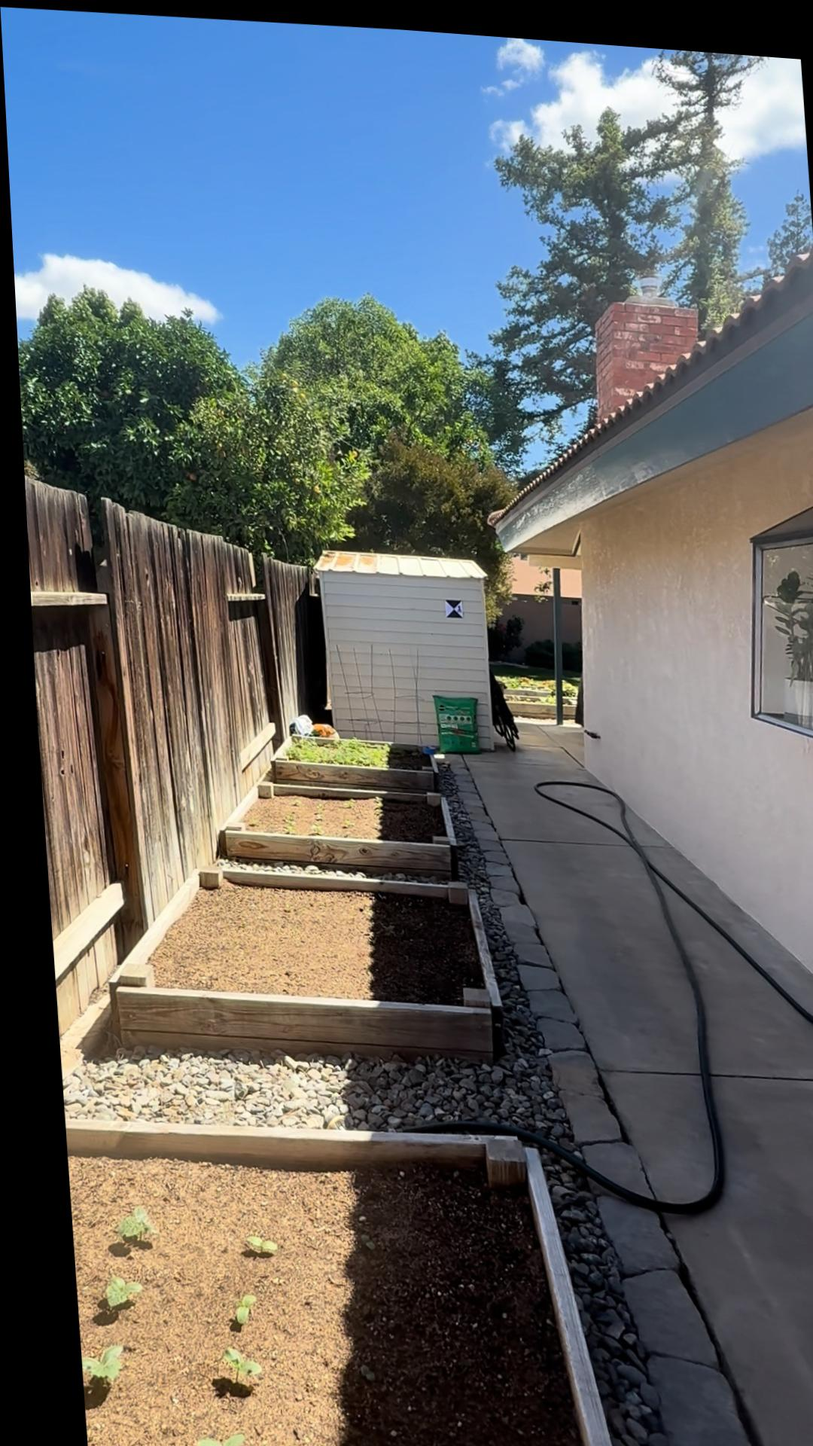target1: (445, 598, 466, 620)
